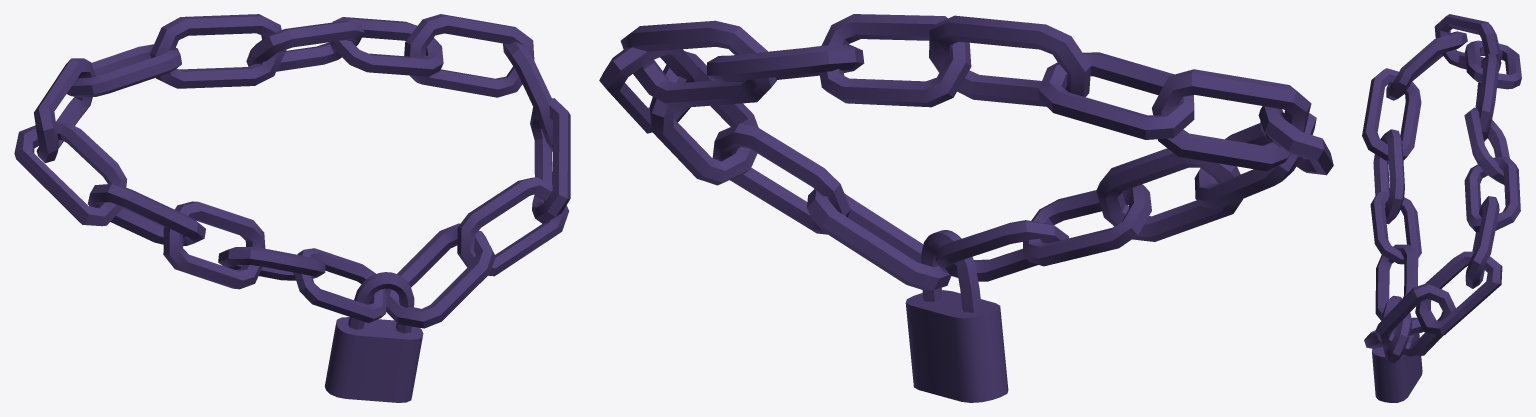
The model's file is SM_Lock_02.fbx.
3 renders of one model, left to right at view 1: azimuth 30°, elevation 25°; view 2: azimuth 150°, elevation 25°; view 3: azimuth 270°, elevation 25°, orthographic. The views are drawn at different scales.
Visible parts, largest first — view 1: SM_lock02; view 2: SM_lock02; view 3: SM_lock02.
Boxes of the visible parts, x1=… form: SM_lock02: x1=14, y1=14, x2=570, y2=402; SM_lock02: x1=599, y1=14, x2=1333, y2=402; SM_lock02: x1=1362, y1=14, x2=1521, y2=402.
Bounding box in the file's own units: 1.83 × 1.17 × 0.5958.
